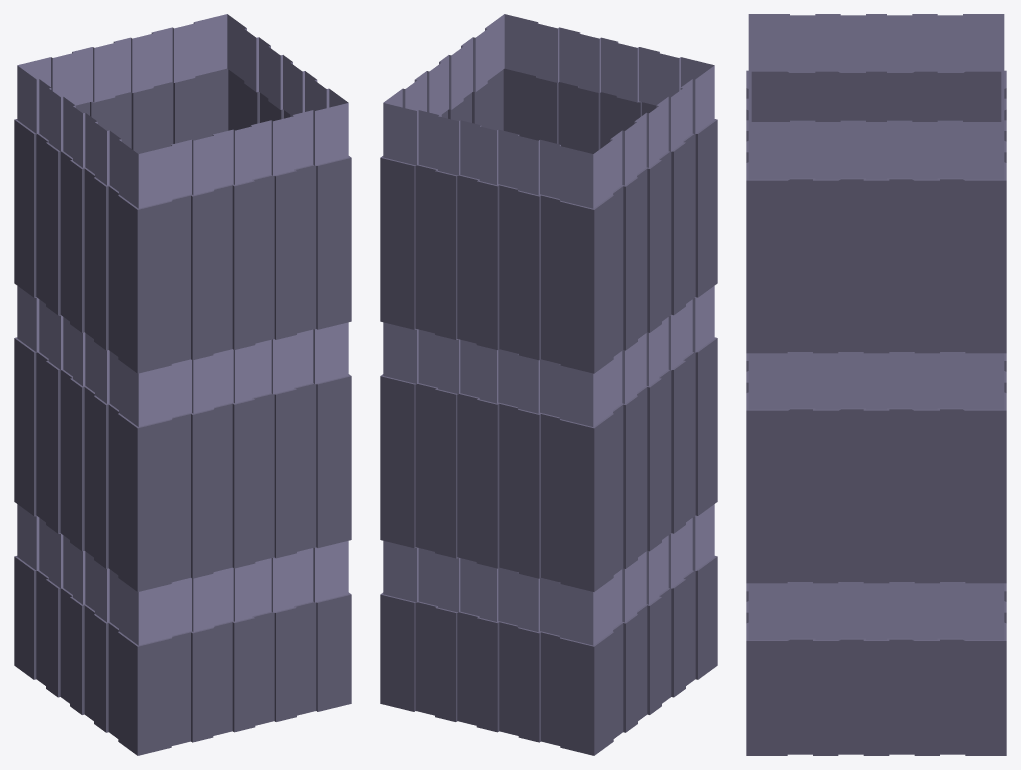
File: Tower Top (1).fbx
3 renders of one model, left to right at view 1: azimuth 30°, elevation 25°; view 2: azimuth 150°, elevation 25°; view 3: azimuth 270°, elevation 25°, orthographic. The views are drawn at different scales.
Parts seen in each view (by area): view 1: Tower; view 2: Tower; view 3: Tower.
Boxes of the visible parts, bbox=[...] form: Tower: bbox=[14, 14, 351, 755]; Tower: bbox=[380, 14, 717, 755]; Tower: bbox=[746, 14, 1006, 755].
Size of the model in its own units: 2.05 by 5.5 by 2.05.
